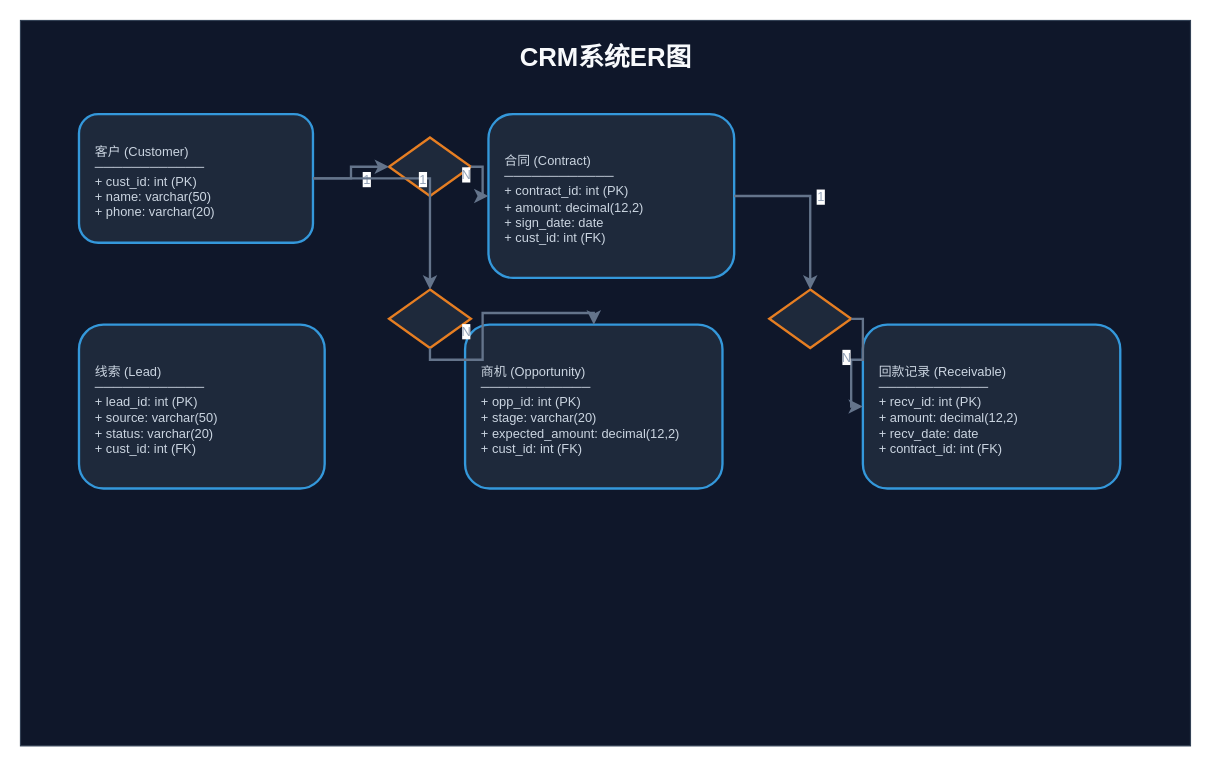
This 1211x766 diagram has some shape labels left out. Each missing label, with the centre of its shape:
产生: [429,166]
支付: [810,318]
转化: [429,318]
